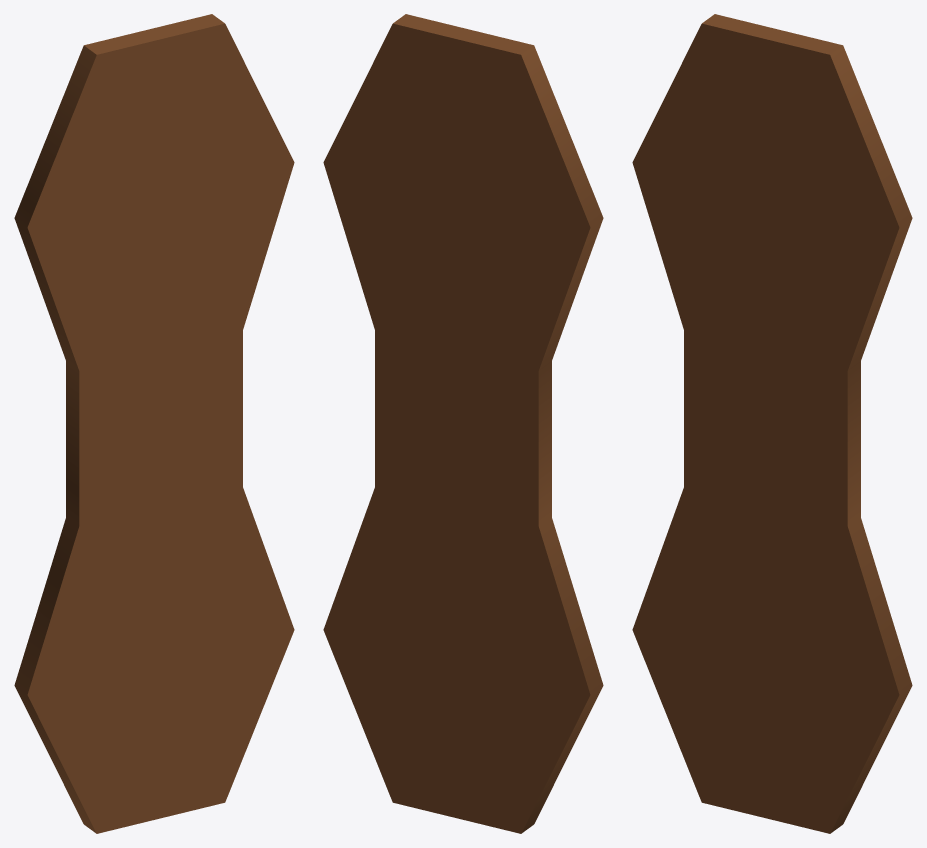
Rendered from WoodenStick.fbx.
3 renders of one model, left to right at view 1: azimuth 30°, elevation 25°; view 2: azimuth 150°, elevation 25°; view 3: azimuth 330°, elevation 25°, orthographic.
Visible parts, largest first — view 1: WoodenStick; view 2: WoodenStick; view 3: WoodenStick.
Boxes of the visible parts, x1,y1,x2,y2 form: WoodenStick: [14, 14, 294, 833]; WoodenStick: [323, 14, 603, 833]; WoodenStick: [632, 14, 912, 833].
Bounding box in the file's own units: 5.13 × 14.31 × 0.4346.
